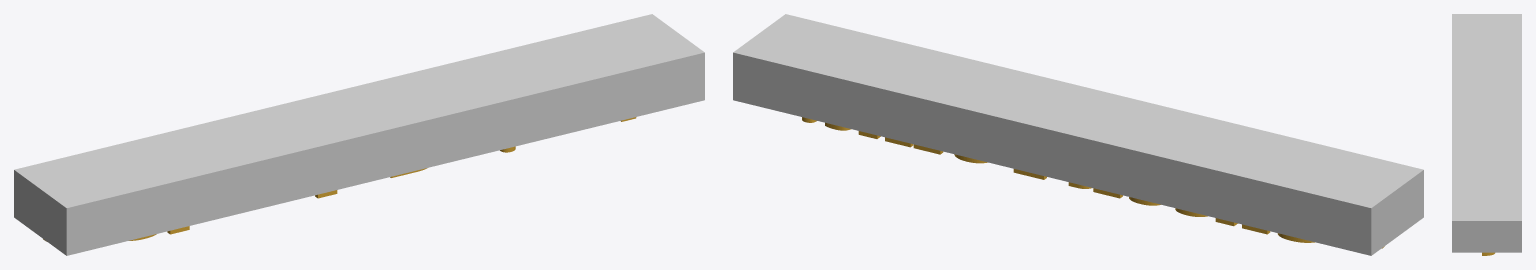
The model's file is tinker.obj.
3 renders of one model, left to right at view 1: azimuth 30°, elevation 25°; view 2: azimuth 150°, elevation 25°; view 3: azimuth 270°, elevation 25°, orthographic. The views are drawn at different scales.
Parts seen in each view (by area): view 1: group_0_16448250, group_0_14789940; view 2: group_0_16448250, group_0_14789940; view 3: group_0_16448250.
Part boxes in pixels (x1=…): group_0_16448250: x1=14, y1=14, x2=704, y2=255; group_0_14789940: x1=43, y1=117, x2=636, y2=241; group_0_16448250: x1=733, y1=14, x2=1423, y2=255; group_0_14789940: x1=802, y1=117, x2=1384, y2=248; group_0_16448250: x1=1452, y1=14, x2=1521, y2=252.
Bounding box in the file's own units: 70 × 6 × 10.
